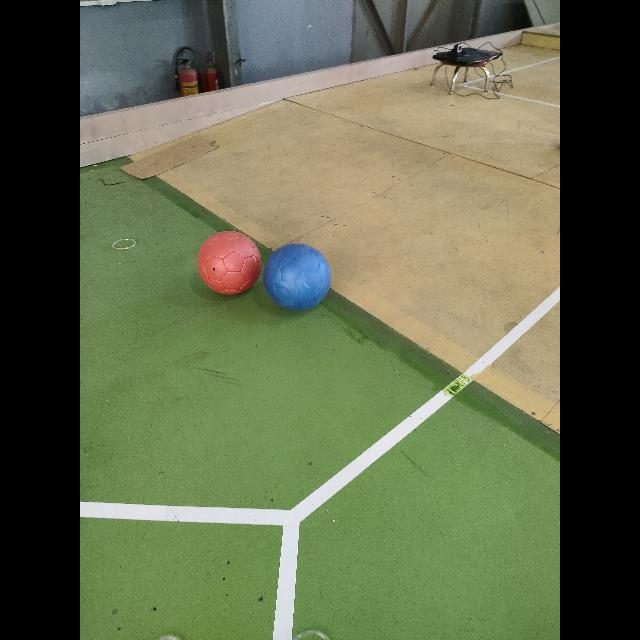B: (264, 244, 331, 310)
R: (198, 231, 261, 295)
